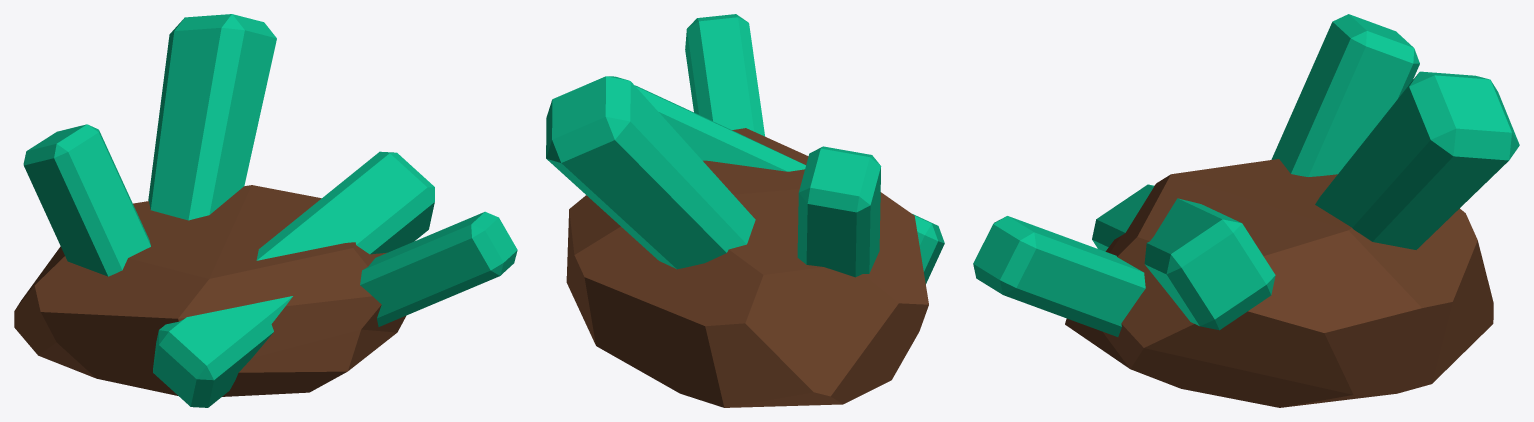
Rendered from MineralNode_14_A.fbx.
3 renders of one model, left to right at view 1: azimuth 30°, elevation 25°; view 2: azimuth 150°, elevation 25°; view 3: azimuth 270°, elevation 25°, orthographic. The views are drawn at different scales.
Visible parts, largest first — view 1: MineralNode_14_A; view 2: MineralNode_14_A; view 3: MineralNode_14_A.
Boxes of the visible parts, x1,y1,x2,y2 form: MineralNode_14_A: [14, 14, 517, 407]; MineralNode_14_A: [546, 14, 944, 407]; MineralNode_14_A: [973, 14, 1519, 407].
Size of the model in its own units: 85.66 by 61.49 by 98.23.
